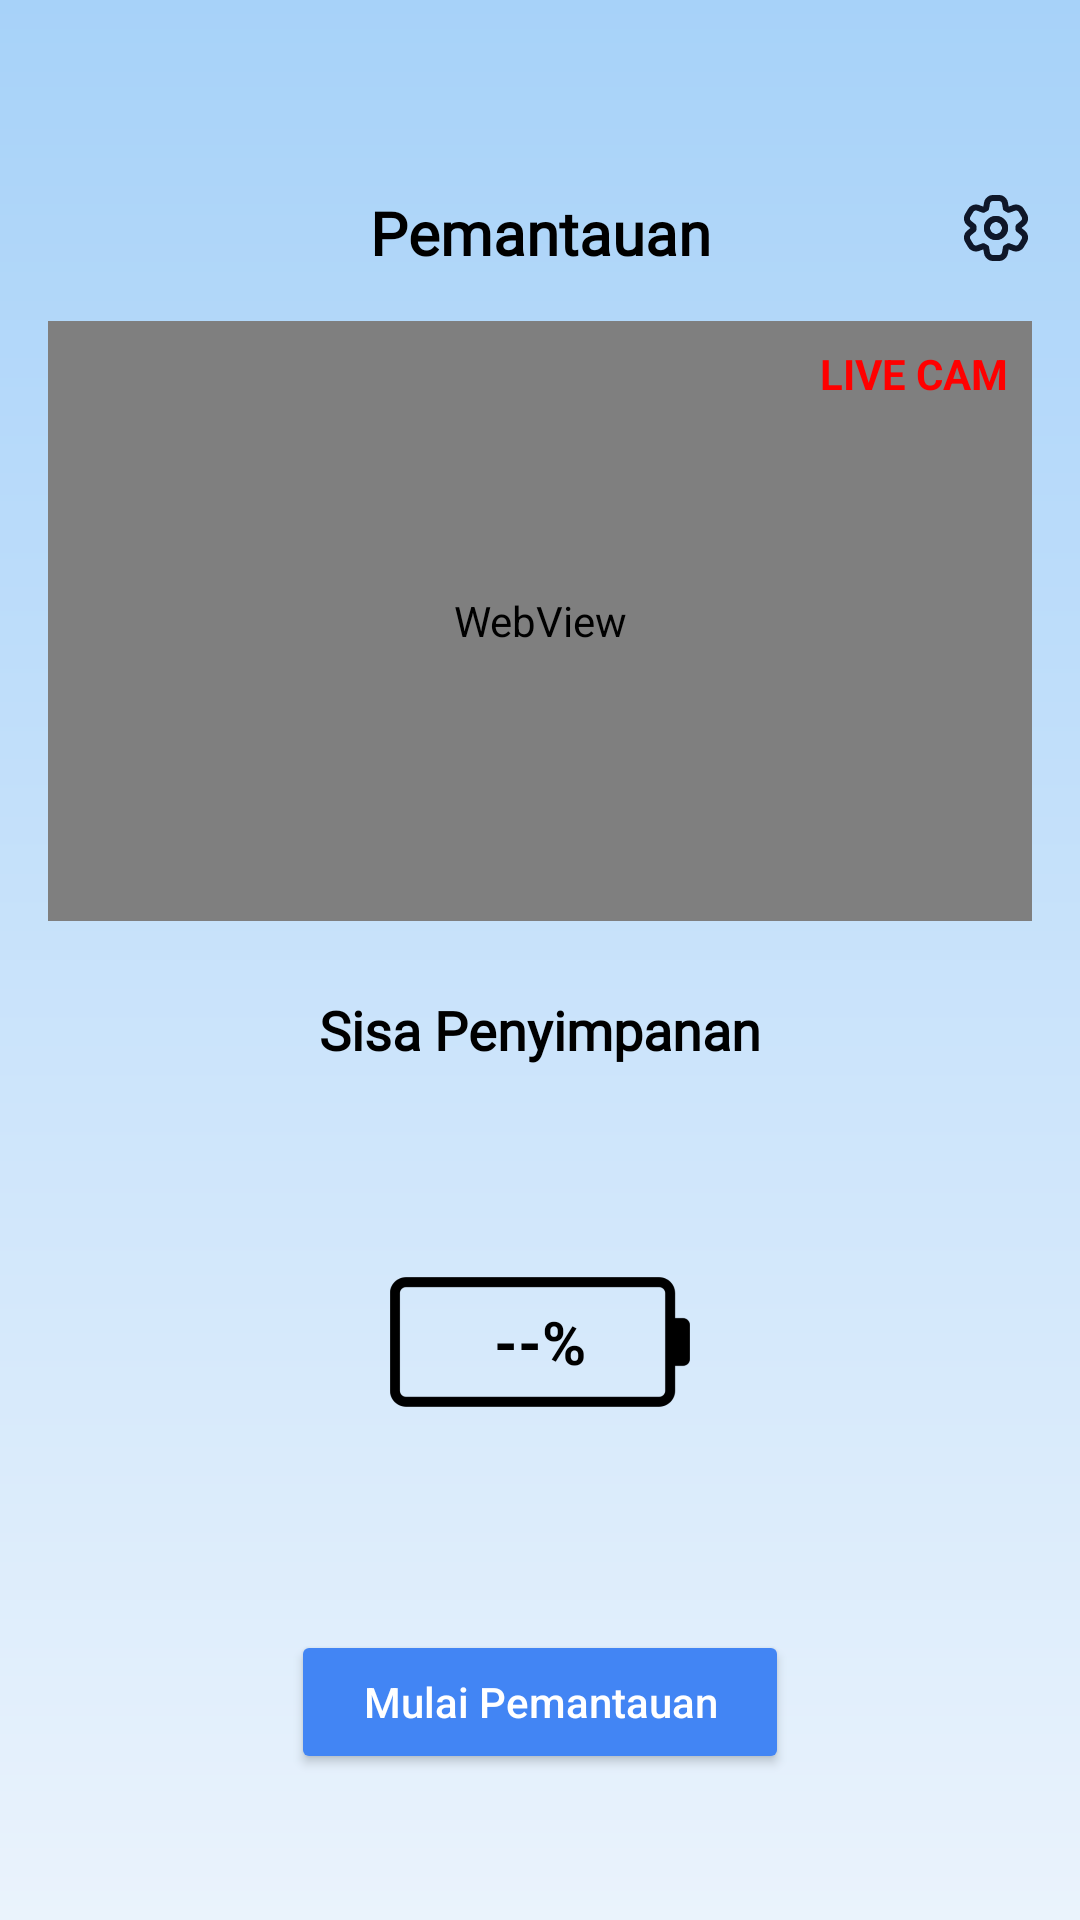

Named icons in this screenshot (1080px×1920px) and their bounding boxes, (x1, y1, x2, y2):
Pengaturan: (964, 195, 1028, 261)
